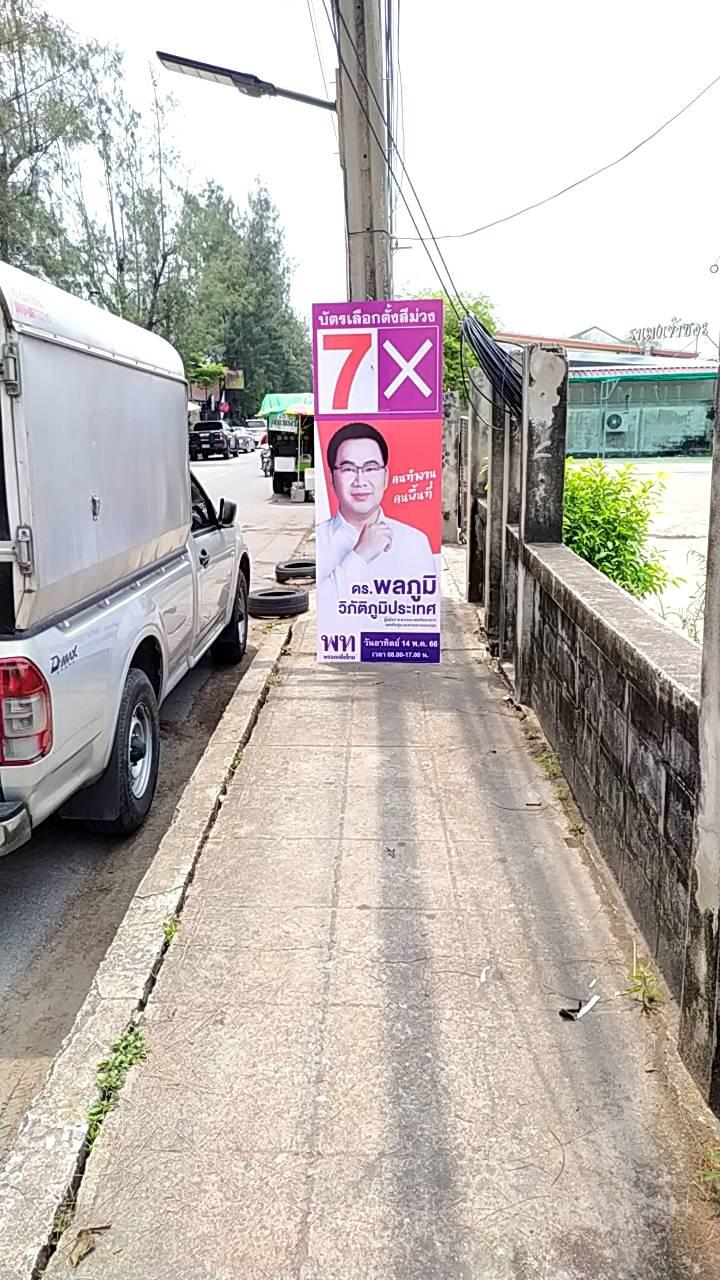Banner: (312, 289, 453, 683)
